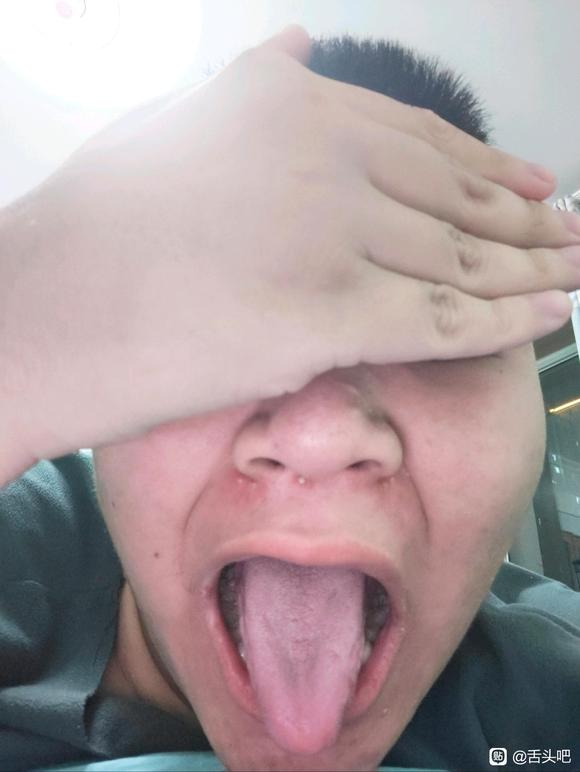baitaishe: (237, 555, 365, 755)
piweiao: (278, 626, 328, 697)
shoushe: (237, 555, 365, 755)
